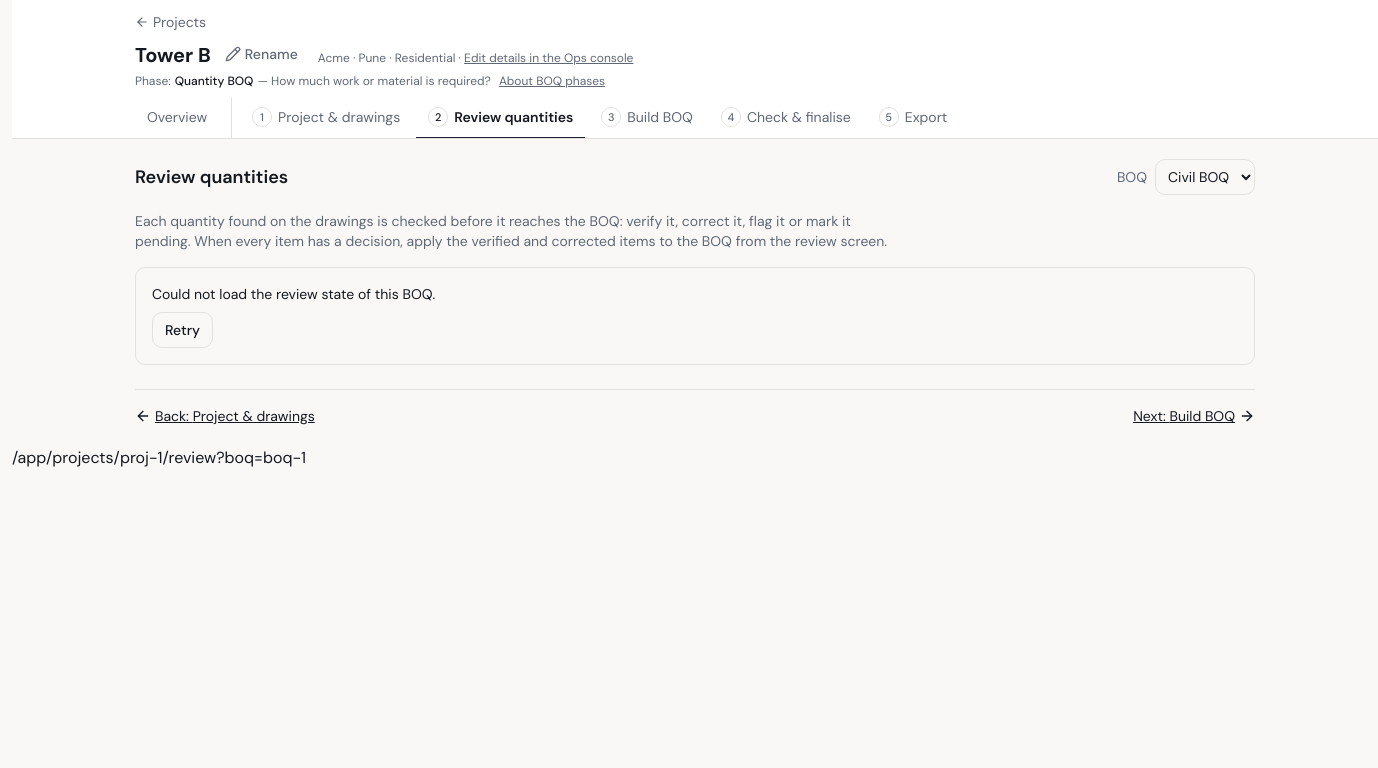
Scenario: Journey — a failed read is an error with a way to recover, never a blank or a success › Review: analysis read fails → error with Retry, not 'no analysis'
The image size is (1378, 768).
Check: the message shows "Could not load the review state of this BOQ.", box [152,285,435,303]
Click the button "Retry": point(182, 330) [152,312,213,348]
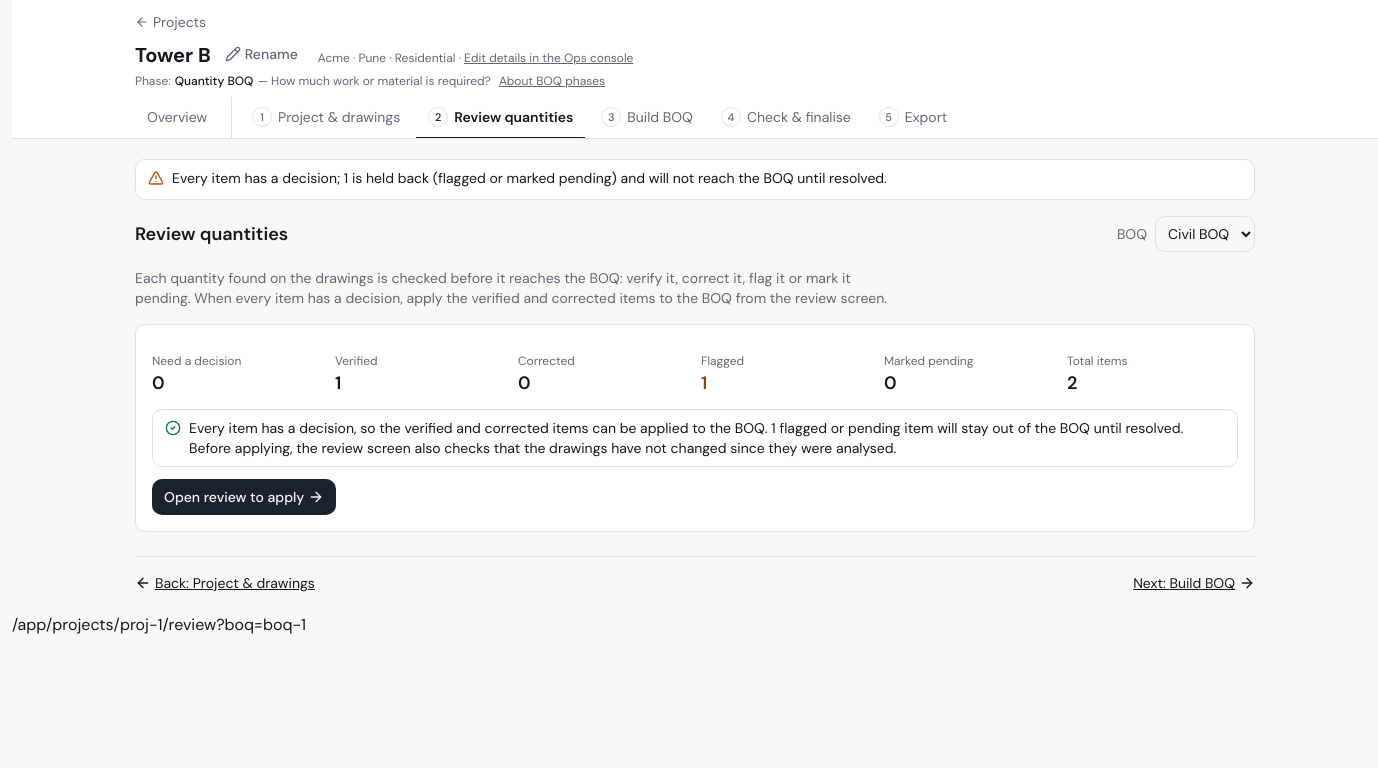
Check: the text "Verified" is shown, box [335,353,378,369]
